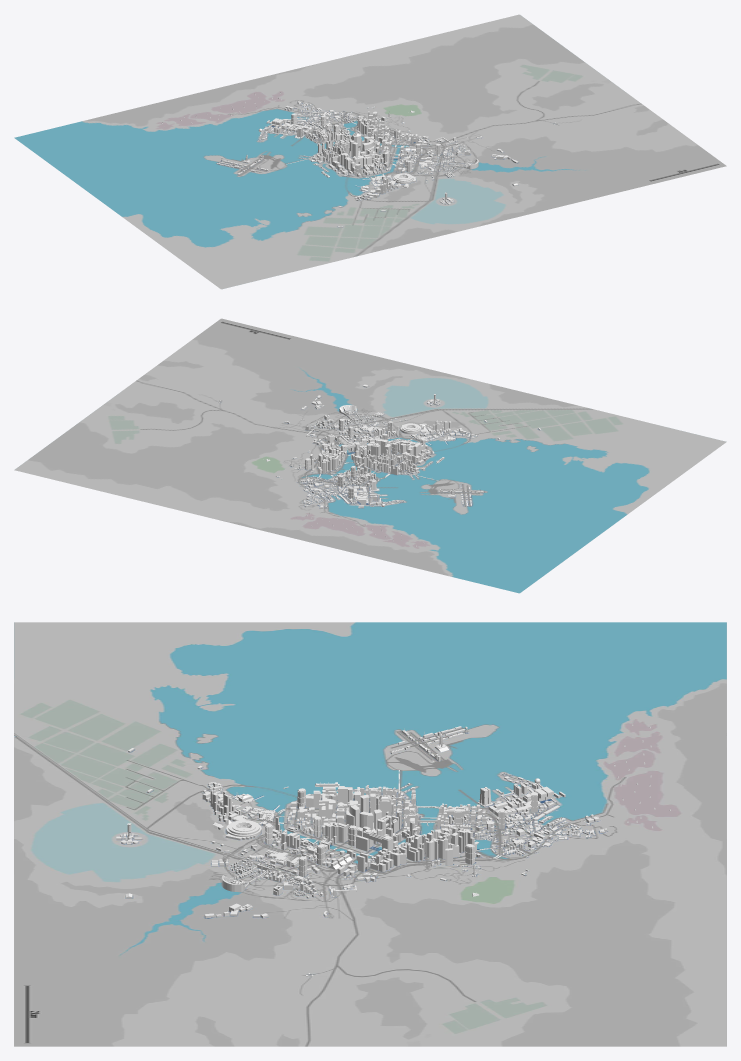
The model's file is cyberpunk_2077_night_city_map.glb.
3 views of the same model, one above another, from view 1: azimuth 30°, elevation 25°; view 2: azimuth 150°, elevation 25°; view 3: azimuth 270°, elevation 25° (orthographic). The views are drawn at different scales.
Parts seen in each view (by area): view 1: Material2 (×4); view 2: Material2 (×4); view 3: Material2 (×4).
Part boxes in pixels (x1,y1,x2,y2): Material2 (×4): [14, 14, 726, 289]; Material2 (×4): [14, 318, 726, 593]; Material2 (×4): [14, 622, 726, 1046].
Size of the model in its own units: 589249 by 20677 by 418229.
56 materials, 3 textured.
